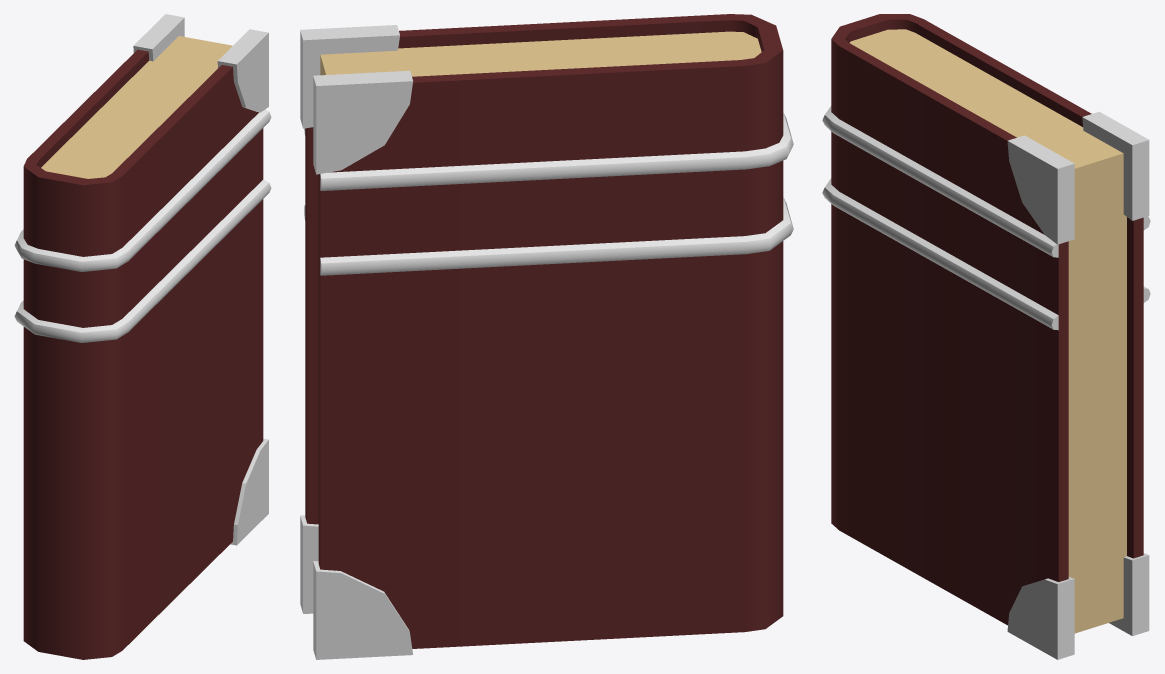
Rendered from obj_Book_08.fbx.
3 views of the same model, side by side, from view 1: azimuth 30°, elevation 25°; view 2: azimuth 150°, elevation 25°; view 3: azimuth 270°, elevation 25° (orthographic). The views are drawn at different scales.
Parts seen in each view (by area): view 1: Book_08, Paper.007, Book_EdgePattern.016; view 2: Book_08, Book_EdgePattern.016, Paper.007; view 3: Book_08, Paper.007, Book_EdgePattern.016.
Boxes of the visible parts, <box> form: Book_08: <box>14,49,271,659</box>; Paper.007: <box>41,36,232,178</box>; Book_EdgePattern.016: <box>133,14,268,545</box>; Book_08: <box>304,14,793,648</box>; Book_EdgePattern.016: <box>300,25,413,659</box>; Paper.007: <box>320,31,761,76</box>; Book_08: <box>822,14,1150,625</box>; Paper.007: <box>850,29,1126,633</box>; Book_EdgePattern.016: <box>1007,111,1149,659</box>.
Size of the model in its own units: 0.2266 by 0.3162 by 0.1916.
